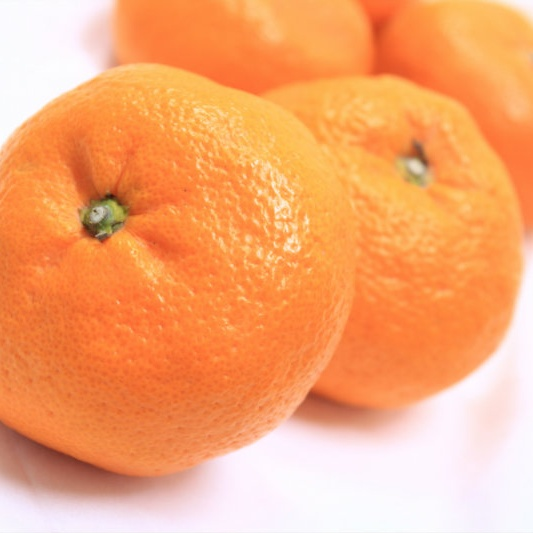mandarin: (1, 64, 358, 481), (259, 73, 524, 410), (379, 1, 532, 228), (117, 1, 381, 85)
